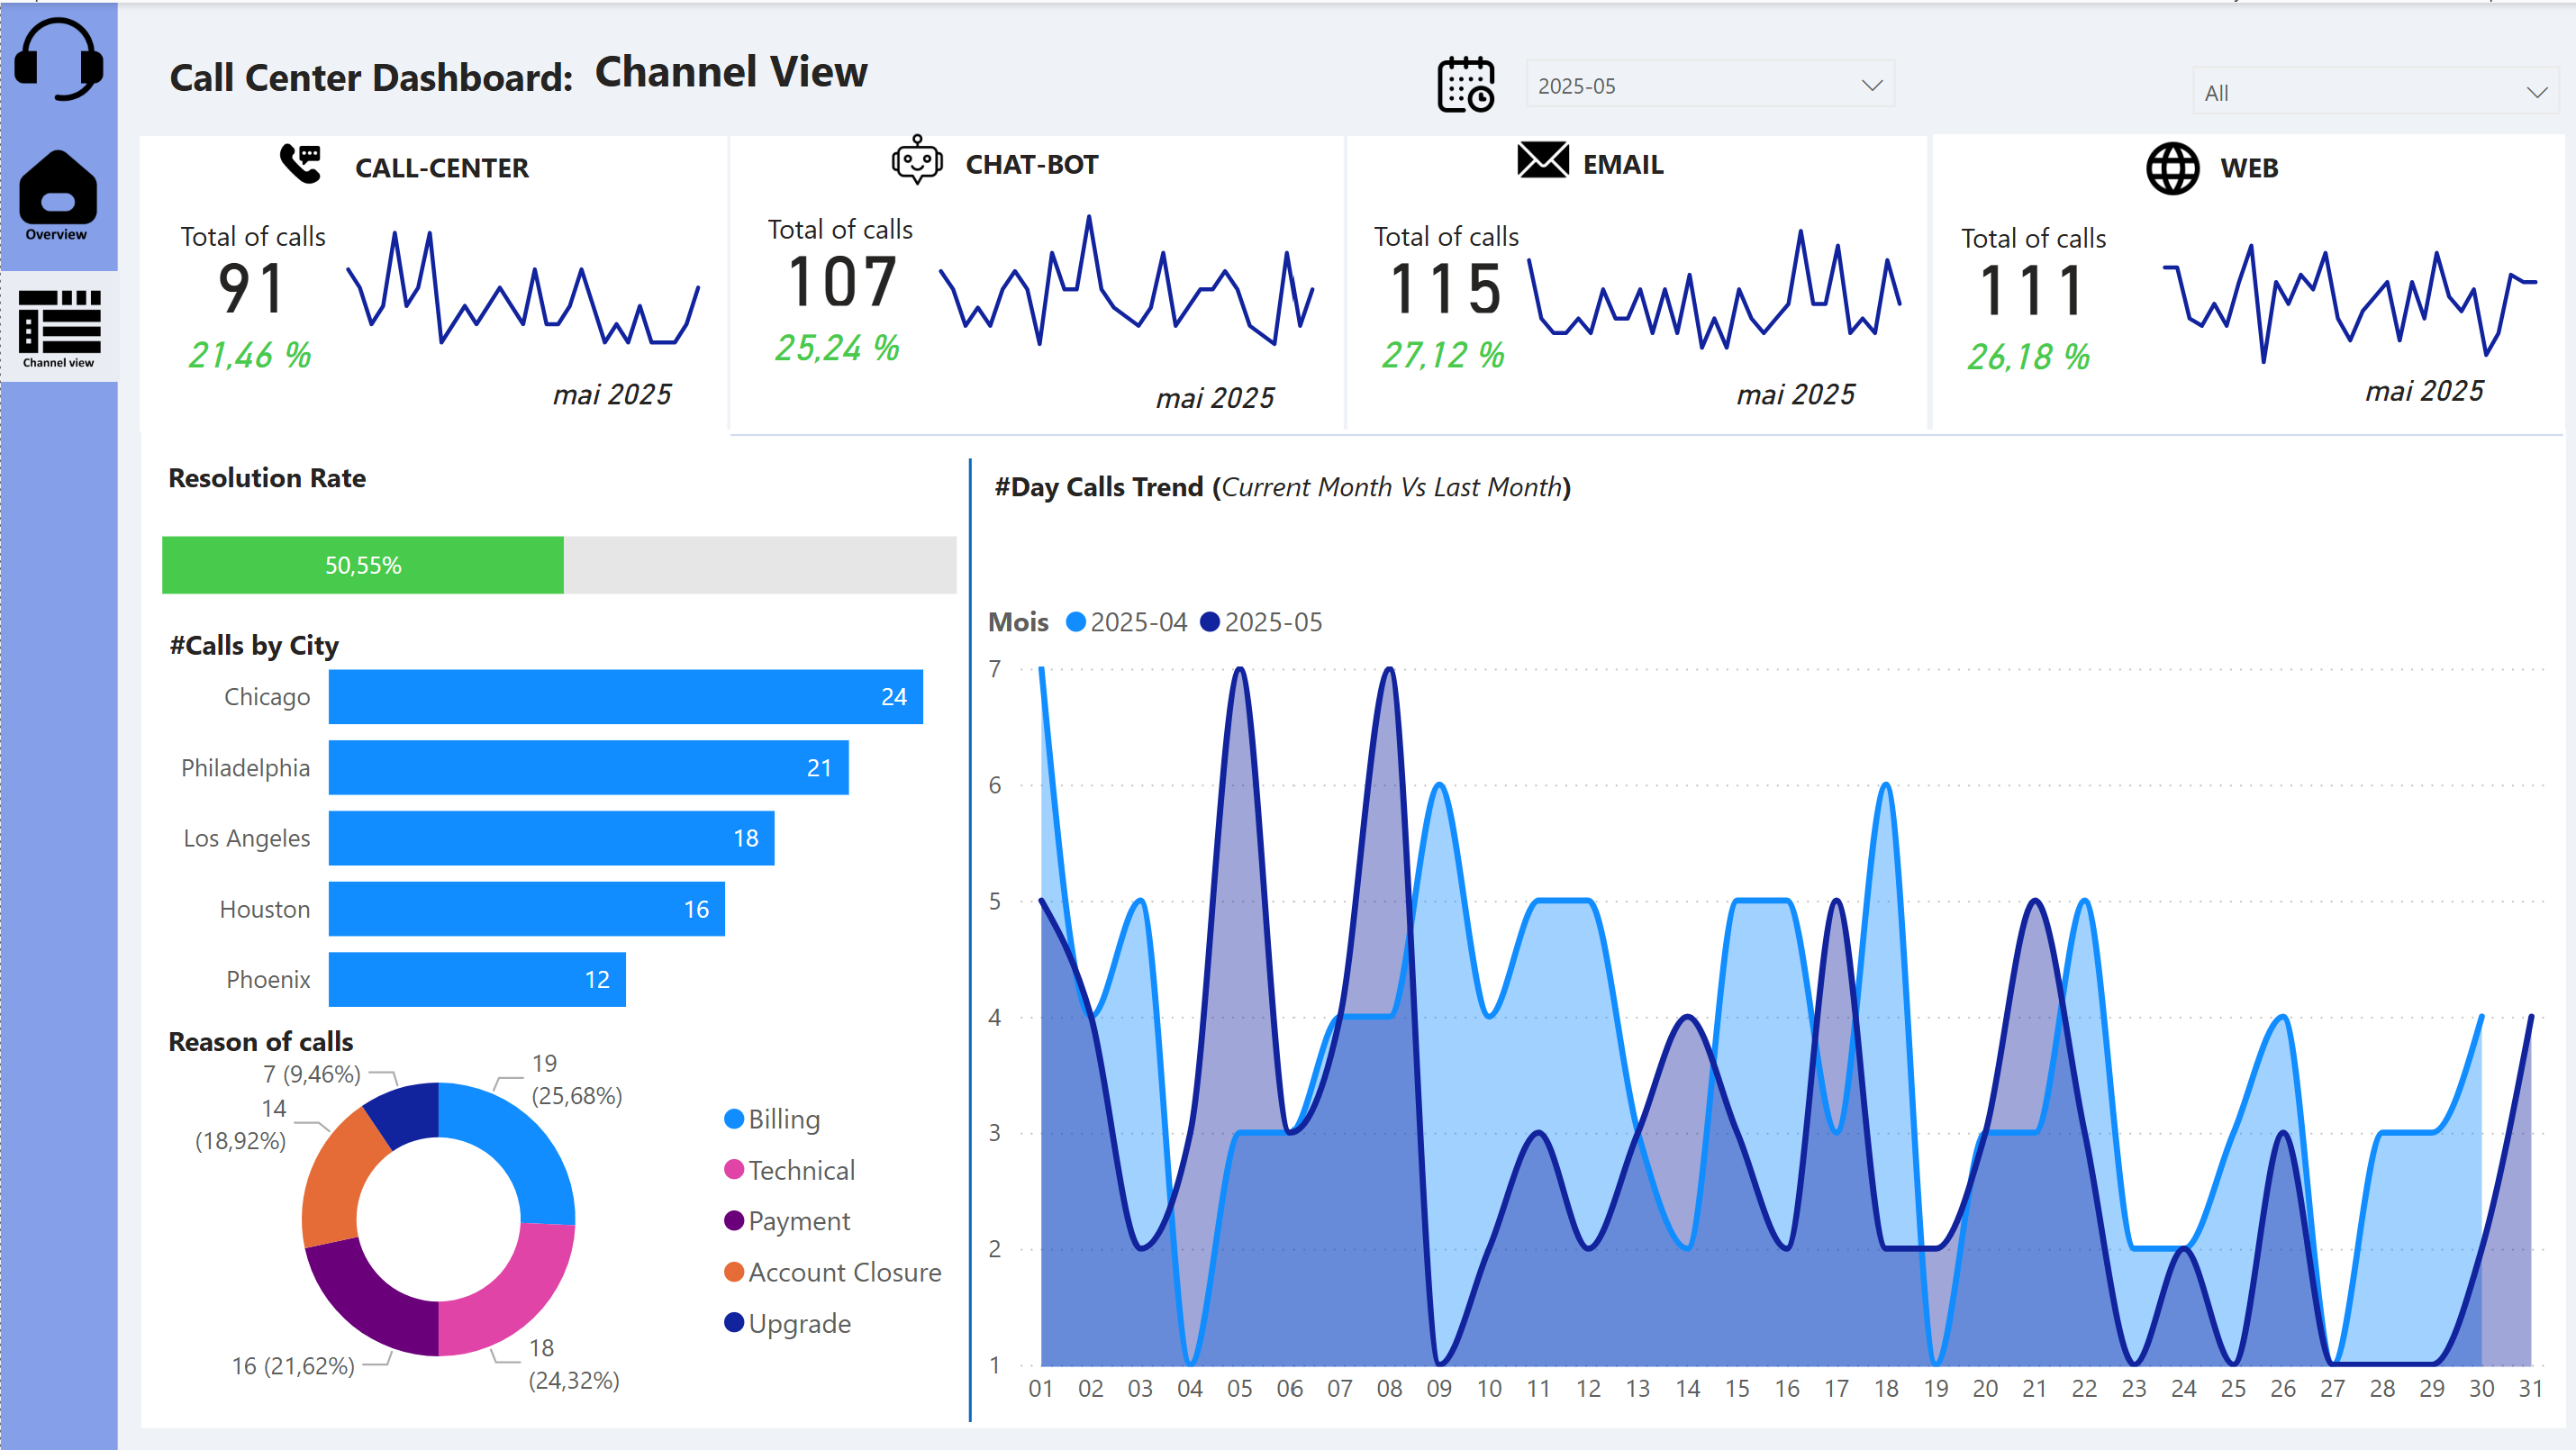

What the dashboard file says about the page in this screenshot:
{"tool":"powerbi","page":{"name":"Channel view","canvas":[1280,720],"ordinal":1},"visuals":[{"type":"shape","box":[0,0,58.2,719.5],"z":0},{"type":"shape","box":[69.5,212.1,1203.4,495.8],"z":0,"group":"g1"},{"type":"shape","box":[69.1,66.1,291.8,146.9],"z":1000},{"type":"shape","box":[476,225.8,11,478.5],"z":1000,"group":"g1"},{"type":"shape","box":[362,66.2,304,146.7],"z":2000},{"type":"areaChart","fields":{"Category":["DimCalendar.N°Jour"],"Y":["Calculation.Received Call"],"Series":["Table des Mois.Mois"]},"box":[484.9,287,786.1,419],"z":2000,"group":"g1"},{"type":"shape","box":[668,66,287.9,146.6],"z":3000},{"type":"donutChart","fields":{"Y":["Calculation.Received Call"],"Category":["DimReason.ReasonType"]},"box":[71.1,507.7,410.5,192.3],"z":3000,"group":"g1"},{"type":"image","box":[2.1,0,54.1,56.1],"z":4000},{"type":"shape","box":[362.3,208.4,909.7,12.5],"z":4000,"group":"g1"},{"type":"textbox","box":[78.8,18.5,225.7,45.7],"z":5000},{"type":"textbox","box":[77.3,221.3,122.6,29.6],"z":5000,"group":"g1"},{"type":"image","box":[706.1,21.4,40.9,37.9],"z":6000},{"type":"textbox","box":[77.7,500.6,122.6,29.6],"z":6000,"group":"g1"},{"type":"slicer","fields":{"Values":["DimCalendar.Mth"]},"box":[747,17.5,203.3,46.7],"z":7000},{"type":"hundredPercentStackedBarChart","fields":{"Y":["Calculation.Tx Resolution","Calculation.Tx Remain"]},"box":[74.8,213.8,404.6,125.1],"z":7000,"group":"g1"},{"type":"card","fields":{"Values":["Table.Received Call"]},"box":[68.6,118,112.5,41.2],"z":8000},{"type":"textbox","box":[487.7,225.6,329.6,41.6],"z":8000,"group":"g1"},{"type":"lineChart","fields":{"Category":["DimCalendar.Date"],"Y":["Table.Received Call"]},"box":[157,91.5,203.8,92.5],"z":9000},{"type":"textbox","box":[78.7,304.4,122.6,29.6],"z":9000,"group":"g1"},{"type":"lineChart","fields":{"Category":["DimCalendar.Date"],"Y":["Calculation.Received Call"]},"box":[452,92,214.1,92.4],"z":10000},{"type":"clusteredBarChart","fields":{"Category":["DimGeography.City"],"Y":["Calculation.Received Call"]},"box":[77.2,304,405.6,214.5],"z":10000,"group":"g1"},{"type":"lineChart","fields":{"Category":["DimCalendar.Date"],"Y":["Calculation.Received Call"]},"box":[742.9,92,214.1,92.4],"z":11000},{"type":"slicer","fields":{"Values":["DimGeography.City"]},"box":[1077.5,21.2,202.5,46.2],"z":12000},{"type":"textbox","box":[167.4,66.8,121.7,29.3],"z":13000},{"type":"textbox","box":[474,65.4,84.8,30.6],"z":14000},{"type":"card","fields":{"Values":["Min(DimCalendar.Mth_long)"]},"box":[245.4,178.8,115.4,33.3],"z":15000},{"type":"card","fields":{"Values":["Min(DimCalendar.Mth_long)"]},"box":[539.7,180.9,125.8,33.3],"z":16000},{"type":"card","fields":{"Values":["Min(DimCalendar.Mth_long)"]},"box":[820.7,179.3,138.2,32.9],"z":17000},{"type":"textbox","box":[779.5,65,66.8,32.9],"z":18000},{"type":"image","box":[0,133.1,58.9,55.1],"z":20000},{"type":"image","box":[0,66.5,57.2,58.2],"z":21000},{"type":"shape","box":[959,65.6,313.9,148.4],"z":22000},{"type":"lineChart","fields":{"Category":["DimCalendar.Date"],"Y":["Calculation.Received Call"]},"box":[1058.6,92,214.1,92.4],"z":23000},{"type":"card","fields":{"Values":["Min(DimCalendar.Mth_long)"]},"box":[1133.6,177.5,138.2,32.9],"z":24000},{"type":"textbox","box":[1096.1,67.4,48,29.6],"z":25000},{"type":"image","box":[1059.5,62.2,36.6,39.3],"z":26000},{"type":"textbox","box":[83.8,101.1,97,28.6],"z":27000},{"type":"card","fields":{"Values":["Calculation.part_of_Callcenter"]},"box":[78.7,159.2,87.8,32],"z":28000},{"type":"card","fields":{"Values":["Table.Received Call"]},"box":[360.4,114.8,112.5,41.2],"z":29000},{"type":"textbox","box":[375.9,97,97,29.6],"z":30000},{"type":"card","fields":{"Values":["Calculation.part_of_Callchatbot"]},"box":[370.5,155.9,87.8,32],"z":31000},{"type":"card","fields":{"Values":["Table.Received Call"]},"box":[660.5,118.4,112.5,41.2],"z":32000},{"type":"textbox","box":[676.3,101.1,97,29.6],"z":33000},{"type":"card","fields":{"Values":["Calculation.part_of_Callemail"]},"box":[670.5,159.5,87.8,32],"z":34000},{"type":"card","fields":{"Values":["Table.Received Call"]},"box":[951.8,119.2,112.5,41.2],"z":35000},{"type":"textbox","box":[967.4,102.2,90.9,28.6],"z":36000},{"type":"card","fields":{"Values":["Calculation.part_of_Callweb"]},"box":[961.9,160.4,87.8,32],"z":37000},{"type":"image","box":[747.5,58.6,35.7,39.3],"z":38000},{"type":"image","box":[437.3,58.6,35.7,39.3],"z":39000},{"type":"image","box":[131,64.5,36.4,31.2],"z":40000},{"type":"group","id":"g1","title":"Call-center","box":[69.5,208.4,1203.4,499.5],"z":41000},{"type":"actionButton","box":[68.8,63.8,291.2,147.5],"z":45000},{"type":"actionButton","box":[362.5,66.2,303.8,147.5],"z":46000},{"type":"actionButton","box":[667.5,66.2,287.5,147.5],"z":47000},{"type":"actionButton","box":[958.8,66.2,312.5,145],"z":48000},{"type":"textbox","box":[289.8,13.4,168.1,44.7],"z":49000}]}

Visuals, with their boxes on the page's 1280x720 design canvas (x1, y1, x2, y2). These are canvas units, not pixel positions in the 2576x1450 screenshot, which may show the page scaled, cropped or inside an application window:
shape: (x1=0, y1=0, x2=58, y2=720)
shape: (x1=70, y1=212, x2=1273, y2=708)
shape: (x1=69, y1=66, x2=361, y2=213)
shape: (x1=476, y1=226, x2=487, y2=704)
shape: (x1=362, y1=66, x2=666, y2=213)
areaChart - DimCalendar.N°Jour x Calculation.Received Call: (x1=485, y1=287, x2=1271, y2=706)
shape: (x1=668, y1=66, x2=956, y2=213)
donutChart - Calculation.Received Call x DimReason.ReasonType: (x1=71, y1=508, x2=482, y2=700)
image: (x1=2, y1=0, x2=56, y2=56)
shape: (x1=362, y1=208, x2=1272, y2=221)
textbox: (x1=79, y1=18, x2=304, y2=64)
textbox: (x1=77, y1=221, x2=200, y2=251)
image: (x1=706, y1=21, x2=747, y2=59)
textbox: (x1=78, y1=501, x2=200, y2=530)
slicer - DimCalendar.Mth: (x1=747, y1=18, x2=950, y2=64)
hundredPercentStackedBarChart - Calculation.Tx Resolution x Calculation.Tx Remain: (x1=75, y1=214, x2=479, y2=339)
card - Table.Received Call: (x1=69, y1=118, x2=181, y2=159)
textbox: (x1=488, y1=226, x2=817, y2=267)
lineChart - DimCalendar.Date x Table.Received Call: (x1=157, y1=92, x2=361, y2=184)
textbox: (x1=79, y1=304, x2=201, y2=334)
lineChart - DimCalendar.Date x Calculation.Received Call: (x1=452, y1=92, x2=666, y2=184)
clusteredBarChart - DimGeography.City x Calculation.Received Call: (x1=77, y1=304, x2=483, y2=518)
lineChart - DimCalendar.Date x Calculation.Received Call: (x1=743, y1=92, x2=957, y2=184)
slicer - DimGeography.City: (x1=1078, y1=21, x2=1280, y2=67)
textbox: (x1=167, y1=67, x2=289, y2=96)
textbox: (x1=474, y1=65, x2=559, y2=96)
card - Min(DimCalendar.Mth_long): (x1=245, y1=179, x2=361, y2=212)
card - Min(DimCalendar.Mth_long): (x1=540, y1=181, x2=666, y2=214)
card - Min(DimCalendar.Mth_long): (x1=821, y1=179, x2=959, y2=212)
textbox: (x1=780, y1=65, x2=846, y2=98)
image: (x1=0, y1=133, x2=59, y2=188)
image: (x1=0, y1=66, x2=57, y2=125)
shape: (x1=959, y1=66, x2=1273, y2=214)
lineChart - DimCalendar.Date x Calculation.Received Call: (x1=1059, y1=92, x2=1273, y2=184)
card - Min(DimCalendar.Mth_long): (x1=1134, y1=178, x2=1272, y2=210)
textbox: (x1=1096, y1=67, x2=1144, y2=97)
image: (x1=1060, y1=62, x2=1096, y2=102)
textbox: (x1=84, y1=101, x2=181, y2=130)
card - Calculation.part_of_Callcenter: (x1=79, y1=159, x2=166, y2=191)
card - Table.Received Call: (x1=360, y1=115, x2=473, y2=156)
textbox: (x1=376, y1=97, x2=473, y2=127)
card - Calculation.part_of_Callchatbot: (x1=370, y1=156, x2=458, y2=188)
card - Table.Received Call: (x1=660, y1=118, x2=773, y2=160)
textbox: (x1=676, y1=101, x2=773, y2=131)
card - Calculation.part_of_Callemail: (x1=670, y1=160, x2=758, y2=192)
card - Table.Received Call: (x1=952, y1=119, x2=1064, y2=160)
textbox: (x1=967, y1=102, x2=1058, y2=131)
card - Calculation.part_of_Callweb: (x1=962, y1=160, x2=1050, y2=192)
image: (x1=748, y1=59, x2=783, y2=98)
image: (x1=437, y1=59, x2=473, y2=98)
image: (x1=131, y1=64, x2=167, y2=96)
"Call-center" group: (x1=70, y1=208, x2=1273, y2=708)
actionButton: (x1=69, y1=64, x2=360, y2=211)
actionButton: (x1=362, y1=66, x2=666, y2=214)
actionButton: (x1=668, y1=66, x2=955, y2=214)
actionButton: (x1=959, y1=66, x2=1271, y2=211)
textbox: (x1=290, y1=13, x2=458, y2=58)
